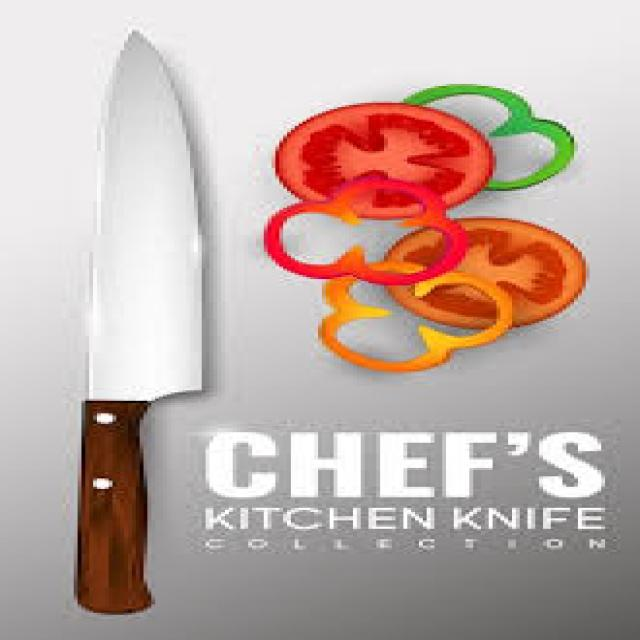Knife: (74, 27, 205, 613)
